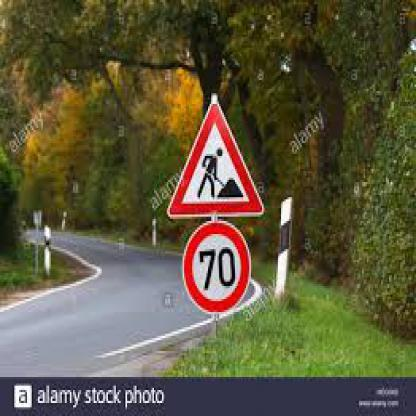Speed Limit 70: (184, 221, 250, 314)
